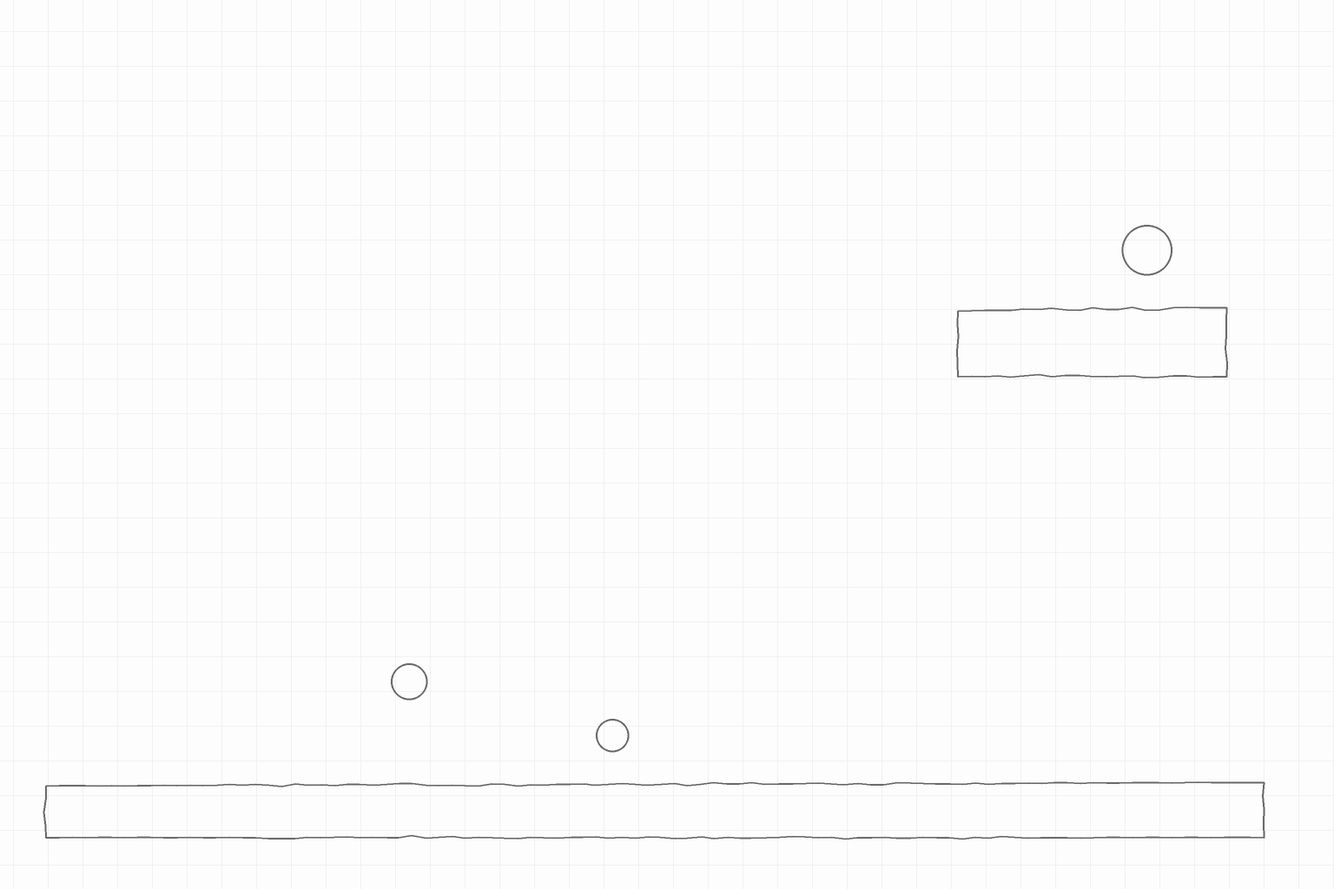collectible: (534, 218, 586, 272), (1149, 352, 1197, 398), (241, 369, 286, 412), (760, 220, 802, 262)
exit: (1012, 306, 1108, 458)
player: (182, 588, 251, 718)
spikes: (604, 253, 743, 328)
terrain: (494, 313, 845, 716), (52, 701, 1278, 815), (908, 438, 1215, 534), (132, 435, 415, 528)
